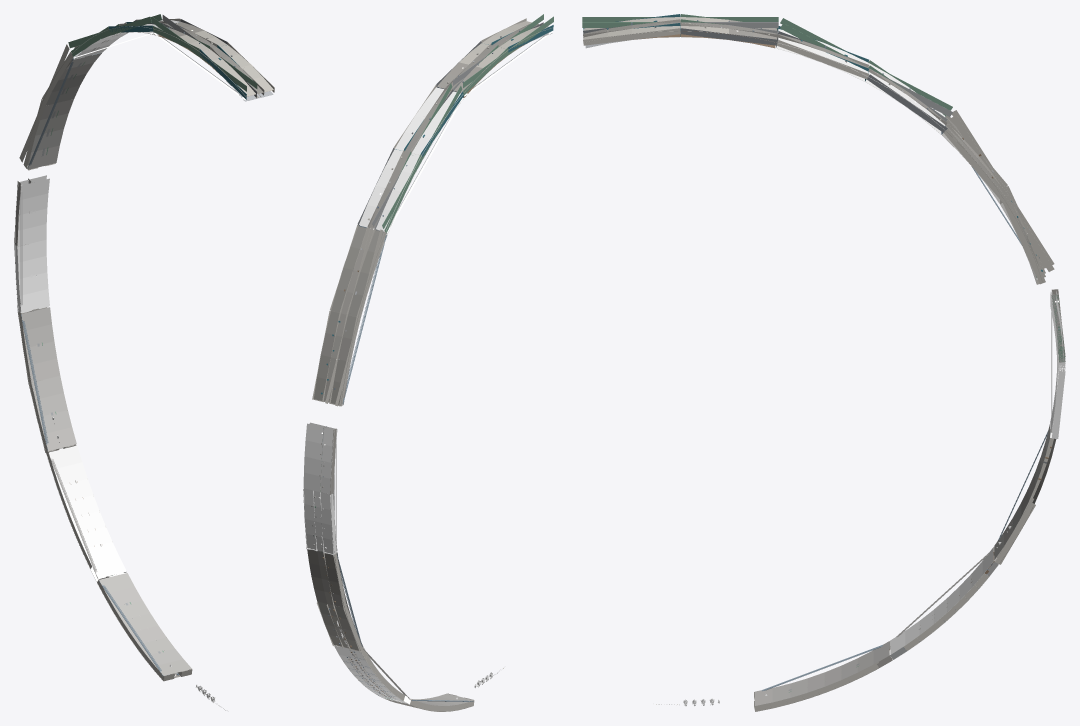
Rendered from xuanshu_interior_C35.glb.
3 renders of one model, left to right at view 1: azimuth 30°, elevation 25°; view 2: azimuth 150°, elevation 25°; view 3: azimuth 270°, elevation 25°, orthographic. The views are drawn at different scales.
Visible parts, largest first — view 1: UNIT-ENT-002, UNIT-EDU-004, UNIT-MKT-001, UNIT-MKT-003; view 2: UNIT-MKT-001, UNIT-ENT-002, UNIT-MKT-003, UNIT-EDU-004; view 3: UNIT-MKT-001, UNIT-EDU-004, UNIT-ENT-002, UNIT-MKT-003.
Part boxes in pixels (x1,y1,x2,y2): UNIT-ENT-002: (14, 175, 76, 452); UNIT-EDU-004: (46, 445, 192, 681); UNIT-MKT-001: (23, 18, 274, 170); UNIT-MKT-003: (19, 14, 257, 162); UNIT-MKT-001: (312, 18, 553, 406); UNIT-ENT-002: (303, 422, 363, 652); UNIT-MKT-003: (325, 14, 553, 406); UNIT-EDU-004: (334, 645, 474, 711); UNIT-MKT-001: (583, 14, 1045, 284); UNIT-EDU-004: (754, 547, 998, 711); UNIT-ENT-002: (993, 289, 1065, 564); UNIT-MKT-003: (582, 17, 1054, 271).
Bounding box in the file's own units: 17.31 × 381 × 244.
